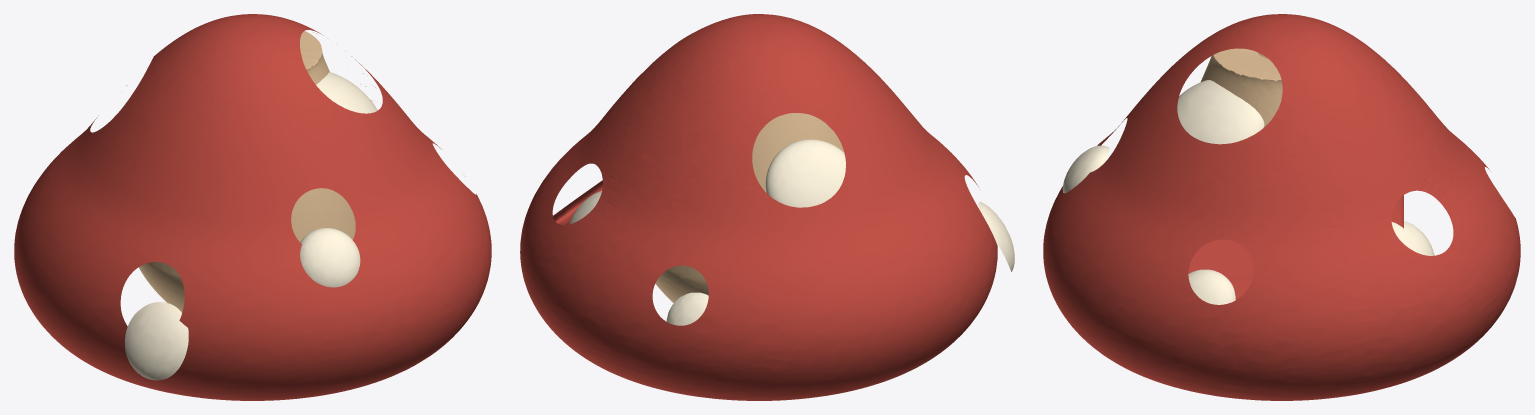
Rendered from shroomling.glb.
The picture shows the model from 3 angles, left to right: view 1: azimuth 30°, elevation 25°; view 2: azimuth 150°, elevation 25°; view 3: azimuth 270°, elevation 25°; orthographic projection.
Parts seen in each view (by area): view 1: cap, spots, body; view 2: cap, spots, body; view 3: cap, spots, body.
Boxes of the visible parts, left/top/right/bottom form: cap: left=14, top=14, right=491, bottom=400; spots: left=114, top=72, right=377, bottom=380; body: left=139, top=31, right=355, bottom=312; cap: left=520, top=14, right=997, bottom=400; spots: left=569, top=139, right=1014, bottom=325; body: left=655, top=113, right=843, bottom=302; cap: left=1043, top=14, right=1520, bottom=400; spots: left=1062, top=80, right=1434, bottom=304; body: left=1201, top=48, right=1282, bottom=127.
Size of the model in its own units: 1638 by 1118 by 1638.
